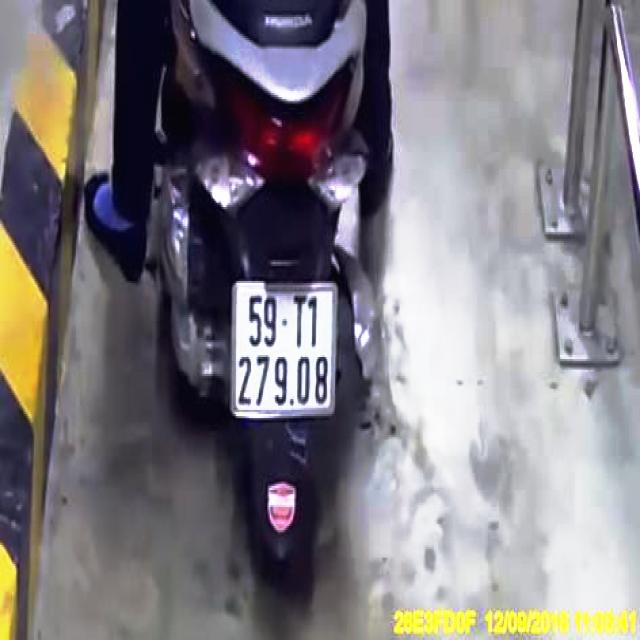license_plate: (236, 286, 336, 411)
